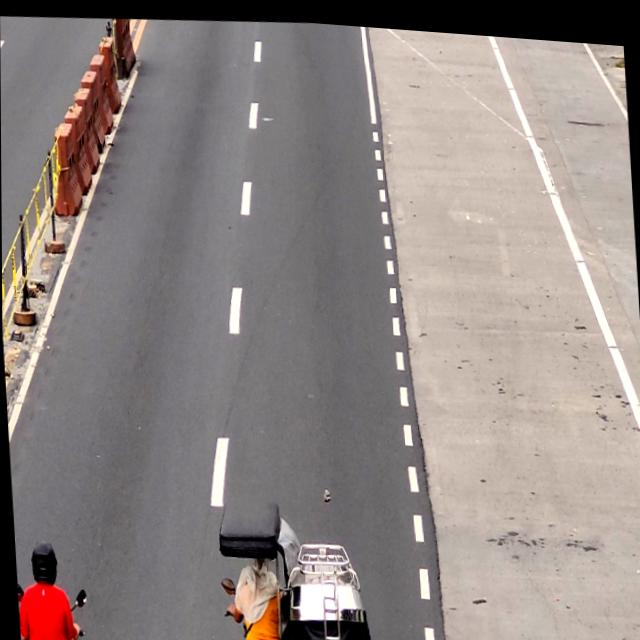Motorcycle: (14, 530, 95, 640)
Tricycle: (213, 496, 381, 640)
